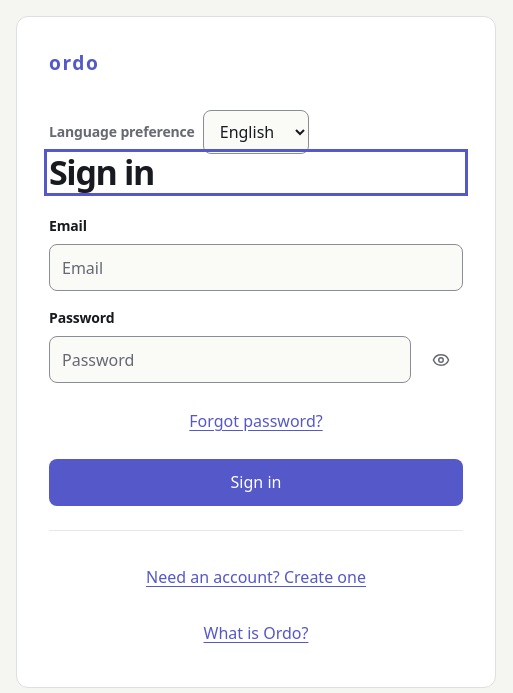
Scenario: existing authentication flows › exposes password visibility as a pressed toggle without changing the password
This screenshot has width=513, height=693.
Type "Secret1!" into the password field labelled "Password" at (230, 360), box [49,336,411,383]
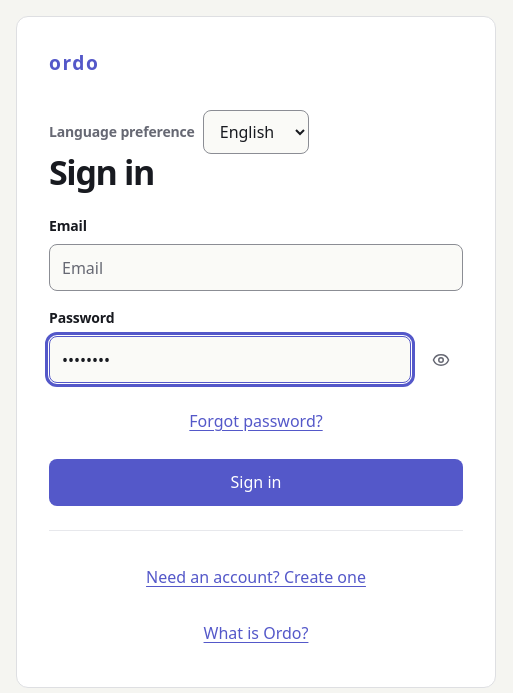
Click the button named "Show password" at (441, 360), box [419,336,463,383]
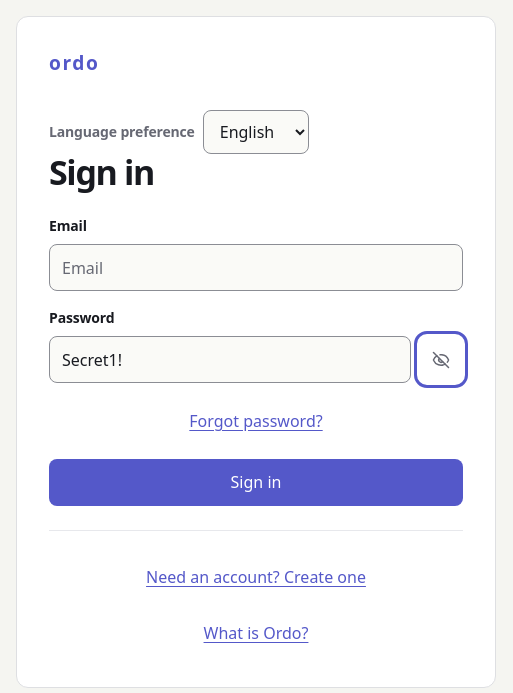
expect the field labelled "Password" shows its text: met, box [49,336,411,383]
